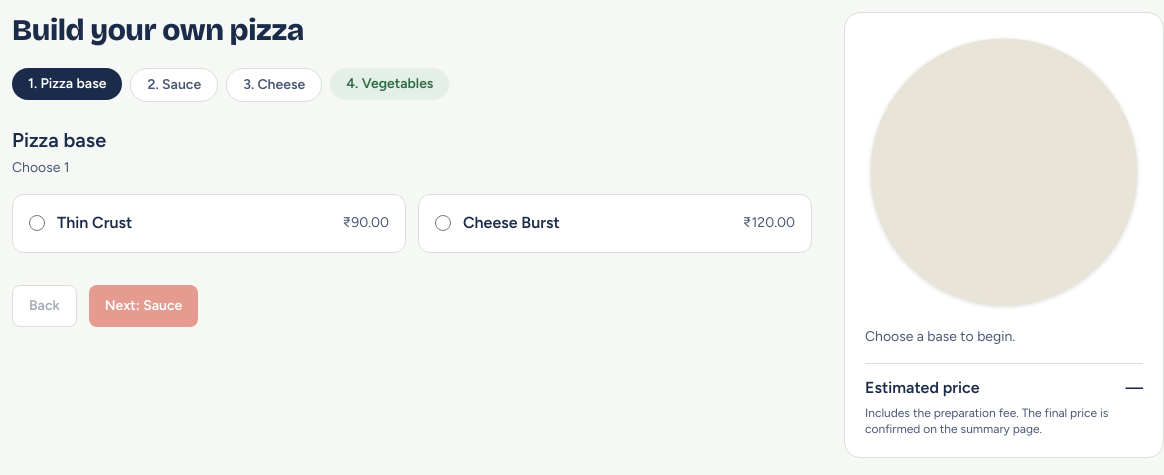
it: pizza builder › shows sold-out options as unavailable
Click the radio button labelled "Thin Crust ₹90.00": (37, 223) [29,215,45,231]
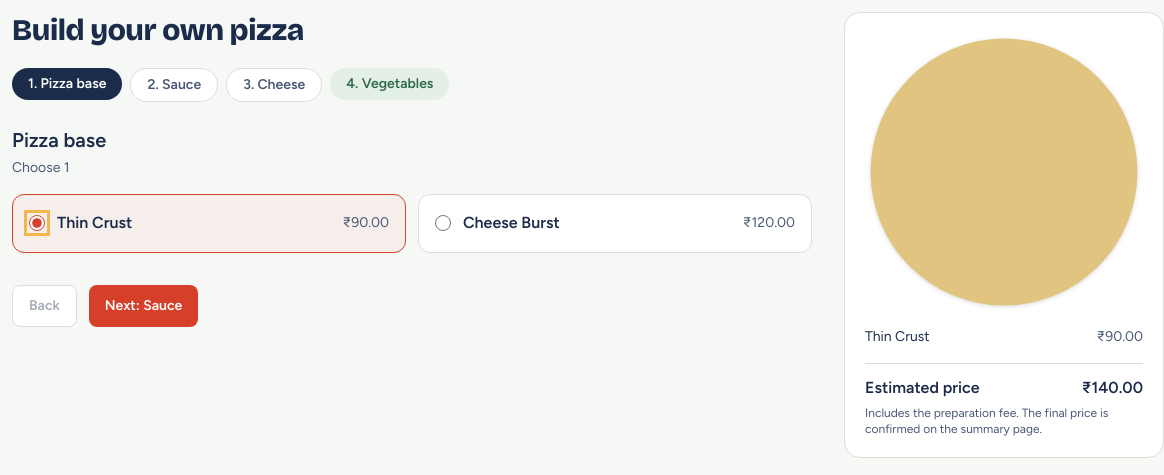
Click the button "Next: Sauce": (144, 306) [89,285,198,327]
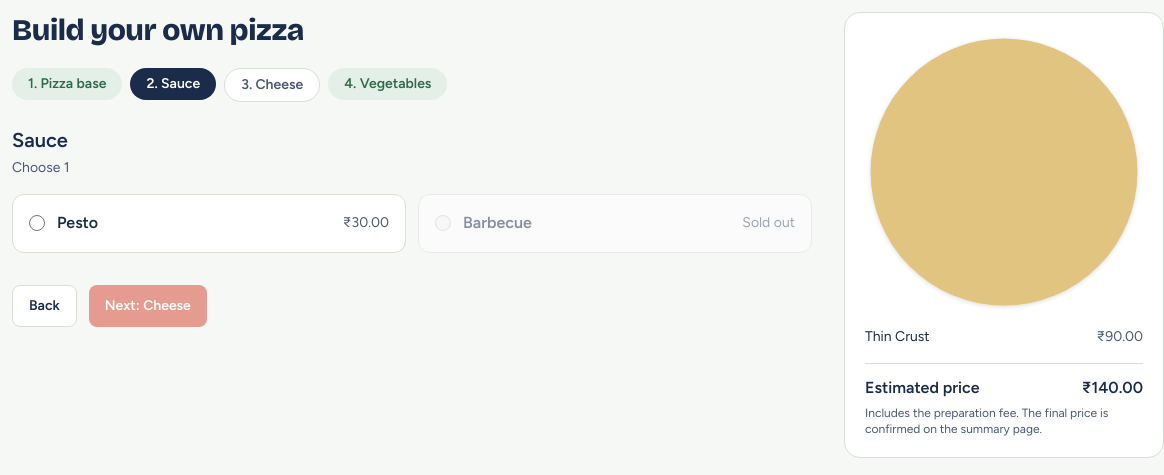
expect the text "Sold out" is shown: met, box [742,213,795,233]
